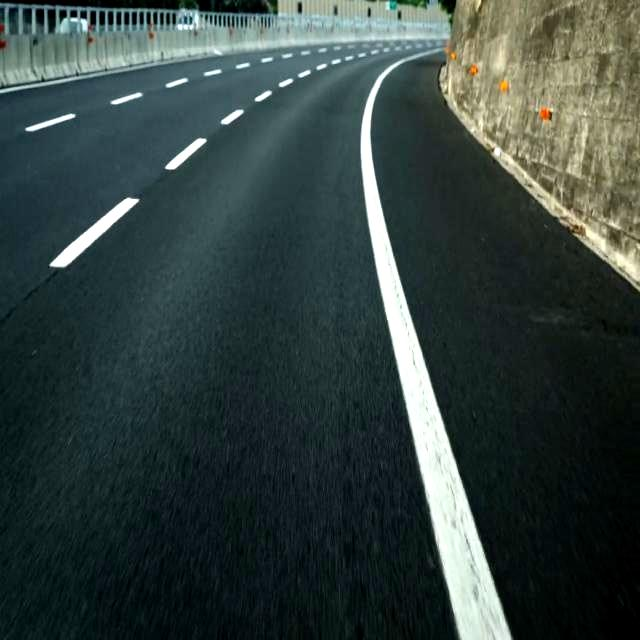lane: (364, 48, 511, 637), (52, 199, 137, 267), (166, 139, 205, 169), (26, 113, 75, 131), (111, 92, 142, 103), (221, 110, 243, 124), (255, 91, 271, 101)
road: (4, 49, 454, 639), (372, 55, 639, 639)
